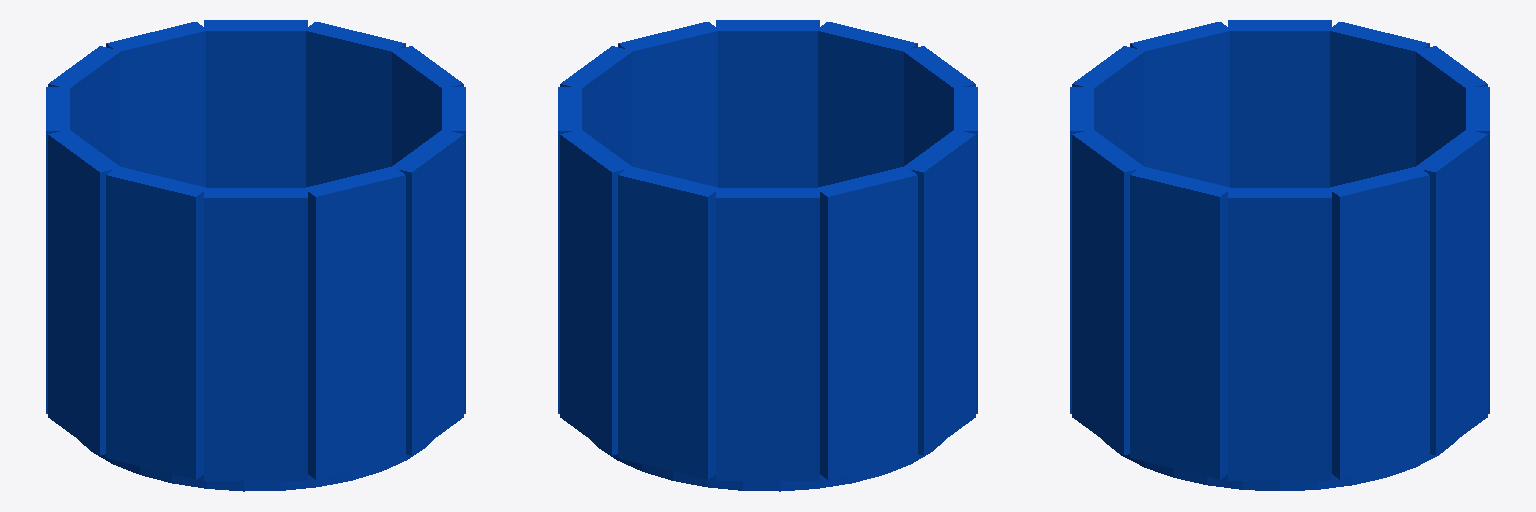
robot.urdf — approximate_hollow_cup:
<?xml version='1.0' encoding='utf-8'?>
<robot name="approximate_hollow_cup">
  <link name="cup">
    <inertial>
      <mass value="0.1" />
      <origin xyz="0 0 0" rpy="0 0 0" />
      <inertia ixx="0.00015125000000000002" iyy="0.00015125000000000002" izz="0.00015125000000000002" ixy="0" ixz="0" iyz="0" />
    </inertial>
    <visual>
      <origin xyz="0 0 0" rpy="0 0 0" />
      <geometry>
        <cylinder radius="0.055" length="0.006" />
      </geometry>
      <material name="cup_material">
        <color rgba=".05 .35 .8 1" />
      </material>
    </visual>
    <collision>
      <origin xyz="0 0 0" rpy="0 0 0" />
      <geometry>
        <cylinder radius="0.055" length="0.006" />
      </geometry>
    </collision>
    <visual>
      <origin xyz="0.057 0.0 .048" rpy="0 0 0.0" />
      <geometry>
        <box size=".007 .030 .09" />
      </geometry>
      <material name="blue">
        <color rgba=".05 .35 .8 1" />
      </material>
    </visual>
    <collision>
      <origin xyz="0.057 0.0 .048" rpy="0 0 0.0" />
      <geometry>
        <box size=".007 .030 .09" />
      </geometry>
    </collision>
    <visual>
      <origin xyz="0.04936344801571301 0.028499999999999998 .048" rpy="0 0 0.5235987755982988" />
      <geometry>
        <box size=".007 .030 .09" />
      </geometry>
      <material name="blue">
        <color rgba=".05 .35 .8 1" />
      </material>
    </visual>
    <collision>
      <origin xyz="0.04936344801571301 0.028499999999999998 .048" rpy="0 0 0.5235987755982988" />
      <geometry>
        <box size=".007 .030 .09" />
      </geometry>
    </collision>
    <visual>
      <origin xyz="0.028500000000000008 0.049363448015713005 .048" rpy="0 0 1.0471975511965976" />
      <geometry>
        <box size=".007 .030 .09" />
      </geometry>
      <material name="blue">
        <color rgba=".05 .35 .8 1" />
      </material>
    </visual>
    <collision>
      <origin xyz="0.028500000000000008 0.049363448015713005 .048" rpy="0 0 1.0471975511965976" />
      <geometry>
        <box size=".007 .030 .09" />
      </geometry>
    </collision>
    <visual>
      <origin xyz="3.490243377569957e-18 0.057 .048" rpy="0 0 1.5707963267948966" />
      <geometry>
        <box size=".007 .030 .09" />
      </geometry>
      <material name="blue">
        <color rgba=".05 .35 .8 1" />
      </material>
    </visual>
    <collision>
      <origin xyz="3.490243377569957e-18 0.057 .048" rpy="0 0 1.5707963267948966" />
      <geometry>
        <box size=".007 .030 .09" />
      </geometry>
    </collision>
    <visual>
      <origin xyz="-0.028499999999999987 0.04936344801571301 .048" rpy="0 0 2.0943951023931953" />
      <geometry>
        <box size=".007 .030 .09" />
      </geometry>
      <material name="blue">
        <color rgba=".05 .35 .8 1" />
      </material>
    </visual>
    <collision>
      <origin xyz="-0.028499999999999987 0.04936344801571301 .048" rpy="0 0 2.0943951023931953" />
      <geometry>
        <box size=".007 .030 .09" />
      </geometry>
    </collision>
    <visual>
      <origin xyz="-0.04936344801571301 0.028499999999999998 .048" rpy="0 0 2.6179938779914944" />
      <geometry>
        <box size=".007 .030 .09" />
      </geometry>
      <material name="blue">
        <color rgba=".05 .35 .8 1" />
      </material>
    </visual>
    <collision>
      <origin xyz="-0.04936344801571301 0.028499999999999998 .048" rpy="0 0 2.6179938779914944" />
      <geometry>
        <box size=".007 .030 .09" />
      </geometry>
    </collision>
    <visual>
      <origin xyz="-0.057 6.980486755139913e-18 .048" rpy="0 0 3.141592653589793" />
      <geometry>
        <box size=".007 .030 .09" />
      </geometry>
      <material name="blue">
        <color rgba=".05 .35 .8 1" />
      </material>
    </visual>
    <collision>
      <origin xyz="-0.057 6.980486755139913e-18 .048" rpy="0 0 3.141592653589793" />
      <geometry>
        <box size=".007 .030 .09" />
      </geometry>
    </collision>
    <visual>
      <origin xyz="-0.04936344801571301 -0.028499999999999984 .048" rpy="0 0 3.665191429188092" />
      <geometry>
        <box size=".007 .030 .09" />
      </geometry>
      <material name="blue">
        <color rgba=".05 .35 .8 1" />
      </material>
    </visual>
    <collision>
      <origin xyz="-0.04936344801571301 -0.028499999999999984 .048" rpy="0 0 3.665191429188092" />
      <geometry>
        <box size=".007 .030 .09" />
      </geometry>
    </collision>
    <visual>
      <origin xyz="-0.028500000000000025 -0.049363448015713 .048" rpy="0 0 4.1887902047863905" />
      <geometry>
        <box size=".007 .030 .09" />
      </geometry>
      <material name="blue">
        <color rgba=".05 .35 .8 1" />
      </material>
    </visual>
    <collision>
      <origin xyz="-0.028500000000000025 -0.049363448015713 .048" rpy="0 0 4.1887902047863905" />
      <geometry>
        <box size=".007 .030 .09" />
      </geometry>
    </collision>
    <visual>
      <origin xyz="-1.047073013270987e-17 -0.057 .048" rpy="0 0 4.71238898038469" />
      <geometry>
        <box size=".007 .030 .09" />
      </geometry>
      <material name="blue">
        <color rgba=".05 .35 .8 1" />
      </material>
    </visual>
    <collision>
      <origin xyz="-1.047073013270987e-17 -0.057 .048" rpy="0 0 4.71238898038469" />
      <geometry>
        <box size=".007 .030 .09" />
      </geometry>
    </collision>
    <visual>
      <origin xyz="0.028500000000000008 -0.049363448015713005 .048" rpy="0 0 5.235987755982989" />
      <geometry>
        <box size=".007 .030 .09" />
      </geometry>
      <material name="blue">
        <color rgba=".05 .35 .8 1" />
      </material>
    </visual>
    <collision>
      <origin xyz="0.028500000000000008 -0.049363448015713005 .048" rpy="0 0 5.235987755982989" />
      <geometry>
        <box size=".007 .030 .09" />
      </geometry>
    </collision>
    <visual>
      <origin xyz="0.04936344801571299 -0.028500000000000025 .048" rpy="0 0 5.759586531581287" />
      <geometry>
        <box size=".007 .030 .09" />
      </geometry>
      <material name="blue">
        <color rgba=".05 .35 .8 1" />
      </material>
    </visual>
    <collision>
      <origin xyz="0.04936344801571299 -0.028500000000000025 .048" rpy="0 0 5.759586531581287" />
      <geometry>
        <box size=".007 .030 .09" />
      </geometry>
    </collision>
  </link>
</robot>

--- Render facts (derived) ---
3 views of the same robot in one strip: view 1: azimuth 30°, elevation 25°; view 2: azimuth 150°, elevation 25°; view 3: azimuth 270°, elevation 25° (orthographic).
Model approximate_hollow_cup with 1 links and 0 joints (none), rooted at cup, posed all joints at 0.
Visible links, largest first — view 1: cup; view 2: cup; view 3: cup.
Link boxes in pixels (x1,y1,x2,y2): cup: (46, 20, 465, 491); cup: (558, 20, 977, 491); cup: (1070, 20, 1489, 490).
Size in the robot's own frame: 0.121 by 0.121 by 0.096 metres.
Geometry: primitives only (box / cylinder / sphere), no mesh files.
